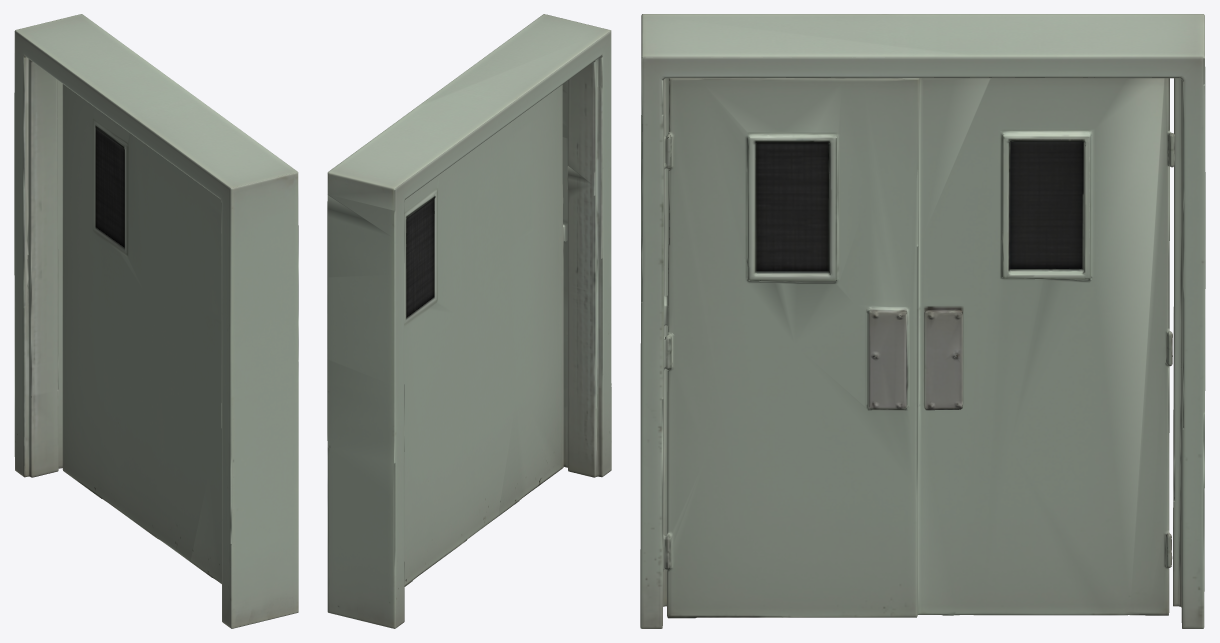
3 renders of one model, left to right at view 1: azimuth 30°, elevation 25°; view 2: azimuth 150°, elevation 25°; view 3: azimuth 270°, elevation 25°, orthographic. The views are drawn at different scales.
Parts seen in each view (by area): view 1: repaired; view 2: repaired; view 3: repaired.
Boxes of the visible parts, x1,y1,x2,y2 form: repaired: (14, 14, 298, 628); repaired: (327, 14, 611, 628); repaired: (640, 14, 1205, 628).
Bounding box in the file's own units: 0.1625 × 1 × 0.894.
1 material, 1 textured.
